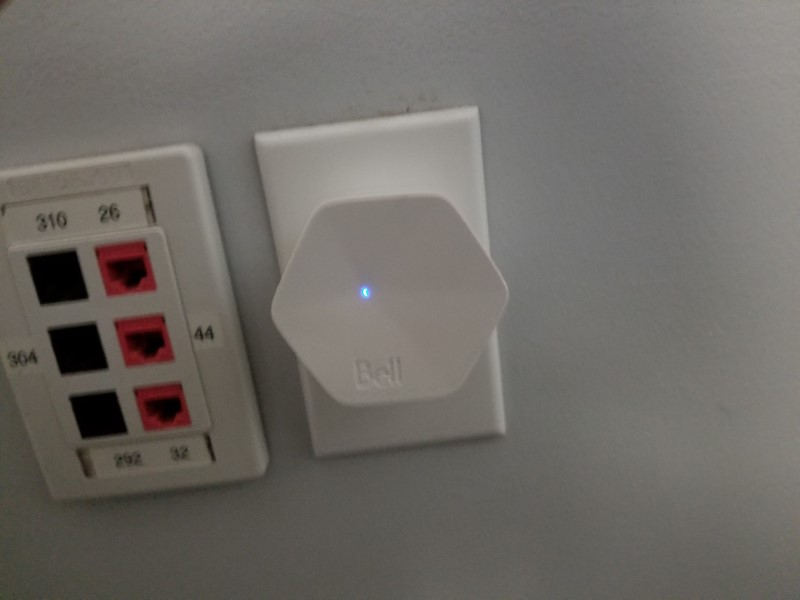pod: (257, 177, 515, 415)
